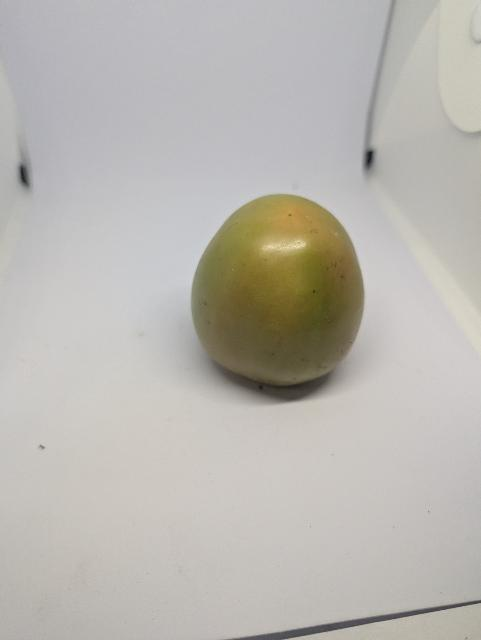breaker: (181, 189, 379, 398)
